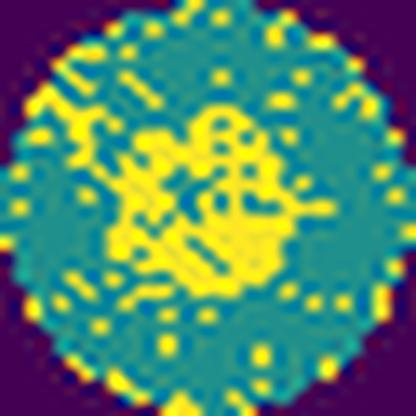Center: (104, 104, 334, 301)
